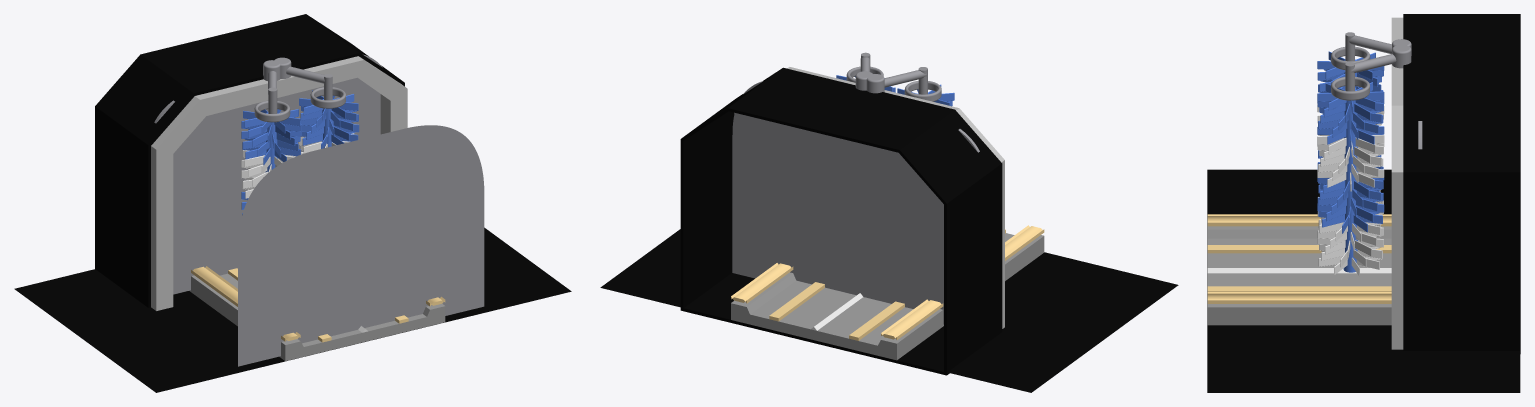
The model's file is station__brush2--.glb.
3 views of the same model, side by side, from view 1: azimuth 30°, elevation 25°; view 2: azimuth 150°, elevation 25°; view 3: azimuth 270°, elevation 25° (orthographic). The views are drawn at different scales.
Parts seen in each view (by area): view 1: lottie_front, Shape 0, _basefloor, lottie_back, Boolean, road, road__top--left, holder__brush--ring-L, holder__brush--ring-R; view 2: Shape 0, _basefloor, gate__left, gate__right, road, road__top--left, Boolean, road__top--right, road__rail--left, road__rail--right; view 3: Shape 0, _basefloor, road, Boolean, road__top--right, road__top--left, holder__brush--stick-R, road__rail--left, road__rail--right, road__rail--middle, holder__brush--ring-R, holder__brush--ring-L (+4 smaller).
Part boxes in pixels (x1,y1,x2,y2): lottie_front: (238, 125, 484, 366); Shape 0: (95, 14, 404, 307); _basefloor: (14, 227, 571, 392); lottie_back: (173, 77, 380, 294); Boolean: (151, 56, 407, 310); road: (189, 273, 445, 361); road__top--left: (191, 266, 300, 341); holder__brush--ring-L: (254, 101, 290, 122); holder__brush--ring-R: (310, 87, 345, 108); Shape 0: (680, 67, 1002, 375); _basefloor: (600, 229, 1178, 392); gate__left: (732, 81, 860, 295); gate__right: (860, 129, 979, 324); road: (731, 233, 1044, 360); road__top--left: (881, 225, 1044, 339); Boolean: (734, 67, 1004, 328); road__top--right: (731, 263, 793, 303); road__rail--left: (849, 229, 1005, 340); road__rail--right: (769, 282, 824, 321); Shape 0: (1403, 14, 1520, 353); _basefloor: (1207, 169, 1520, 392); road: (1207, 226, 1391, 325); Boolean: (1391, 17, 1403, 349); road__top--right: (1207, 292, 1391, 303); road__top--left: (1207, 214, 1391, 226); holder__brush--stick-R: (1343, 89, 1358, 272); road__rail--left: (1207, 245, 1391, 253); road__rail--right: (1207, 286, 1391, 291); road__rail--middle: (1207, 268, 1391, 273); holder__brush--ring-R: (1331, 76, 1369, 100); holder__brush--ring-L: (1331, 46, 1370, 69).
Size of the model in its own units: 10.8 by 5.41 by 6.41.
